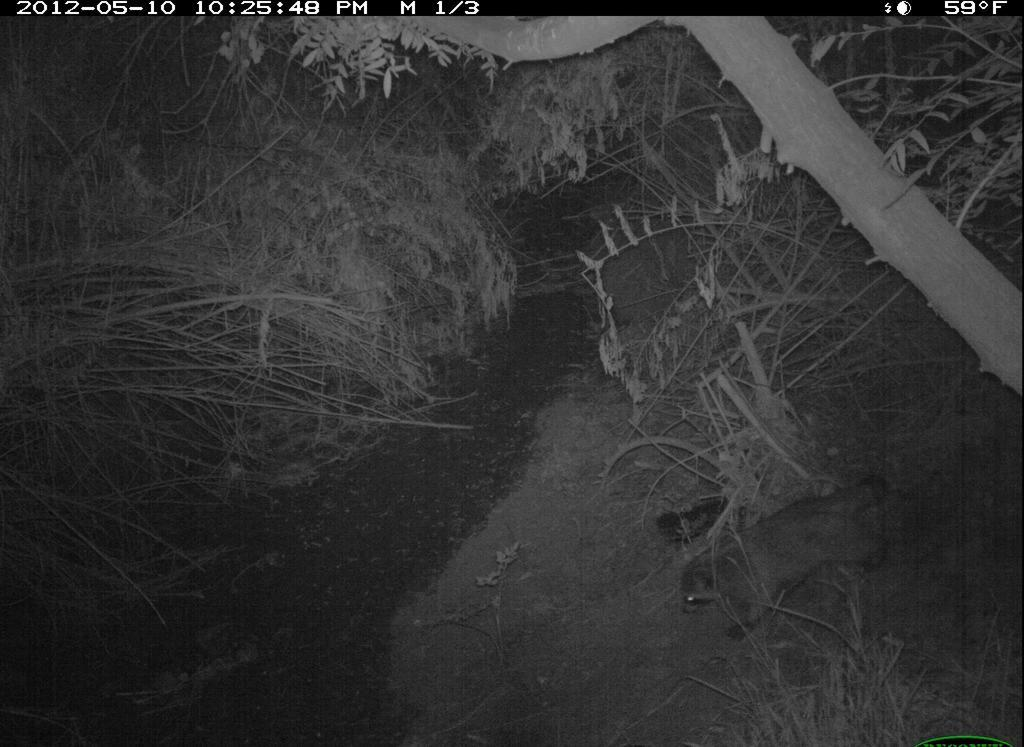raccoon: (665, 465, 905, 641)
